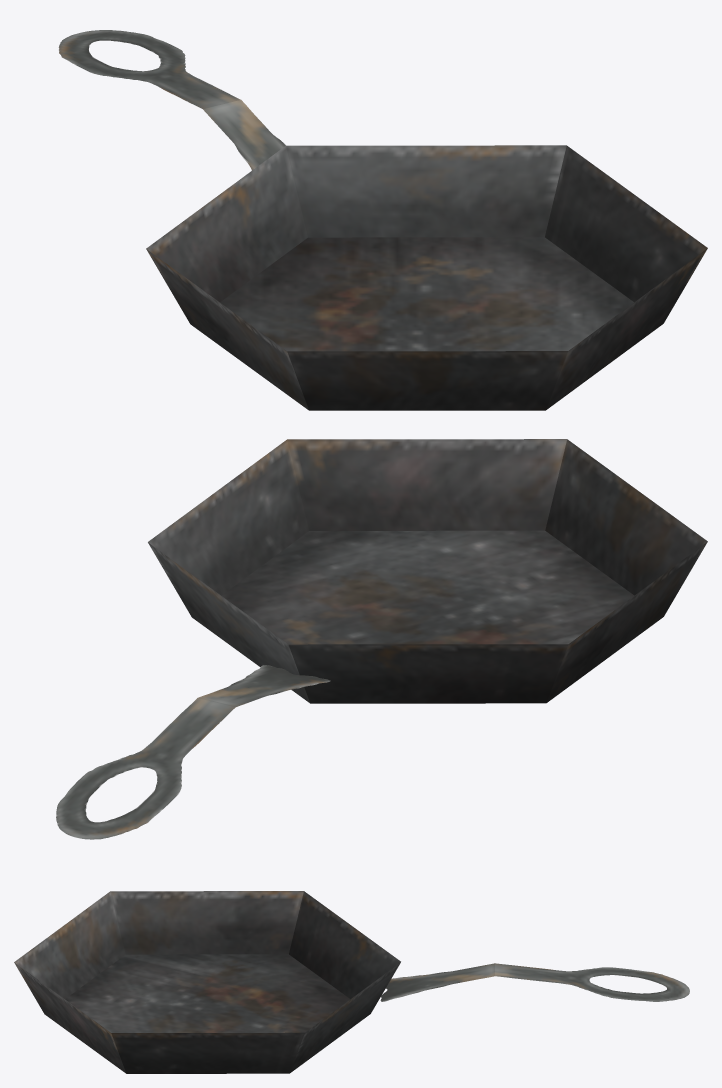
File: Pan.fbx
3 views of the same model, one above another, from view 1: azimuth 30°, elevation 25°; view 2: azimuth 150°, elevation 25°; view 3: azimuth 270°, elevation 25° (orthographic). The views are drawn at different scales.
Parts seen in each view (by area): view 1: Pan; view 2: Pan; view 3: Pan.
Part boxes in pixels (<box>): Pan: <box>58,30,707,410</box>; Pan: <box>56,439,707,839</box>; Pan: <box>14,891,689,1073</box>.
Bounding box in the file's own units: 26.44 × 4.52 × 54.61.
